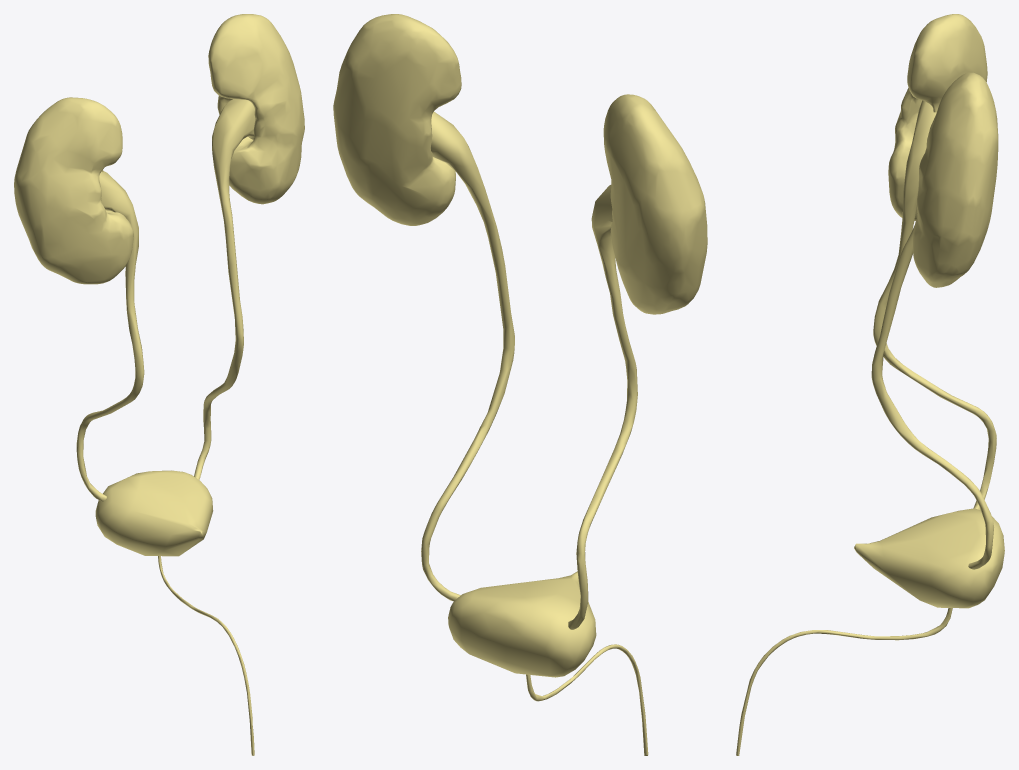
The model's file is urinario.glb.
The picture shows the model from 3 angles, left to right: view 1: azimuth 30°, elevation 25°; view 2: azimuth 150°, elevation 25°; view 3: azimuth 270°, elevation 25°; orthographic projection. The views are drawn at different scales.
Parts seen in each view (by area): view 1: FJ3147, FJ3145, FJ3149, FJ3144, FJ3146, FJ3148; view 2: FJ3145, FJ3147, FJ3149, FJ3144, FJ3146, FJ3148; view 3: FJ3145, FJ3149, FJ3147, FJ3146, FJ3144, FJ3148.
Part boxes in pixels (bbox=[...]): FJ3147: bbox=[14, 97, 133, 284]; FJ3145: bbox=[208, 14, 304, 204]; FJ3149: bbox=[95, 470, 213, 556]; FJ3144: bbox=[194, 99, 255, 479]; FJ3146: bbox=[76, 171, 144, 501]; FJ3148: bbox=[158, 556, 254, 755]; FJ3145: bbox=[333, 14, 461, 225]; FJ3147: bbox=[603, 94, 707, 314]; FJ3149: bbox=[448, 571, 596, 677]; FJ3144: bbox=[421, 111, 514, 601]; FJ3146: bbox=[568, 185, 637, 629]; FJ3148: bbox=[526, 644, 648, 755]; FJ3145: bbox=[913, 72, 998, 287]; FJ3149: bbox=[854, 508, 1004, 608]; FJ3147: bbox=[888, 14, 987, 220]; FJ3146: bbox=[873, 100, 996, 510]; FJ3144: bbox=[871, 226, 993, 569]; FJ3148: bbox=[736, 608, 952, 755].
Size of the model in its own units: 0.178 by 0.3819 by 0.1276.
